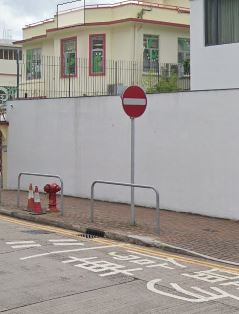No Enter: (122, 86, 149, 118)
